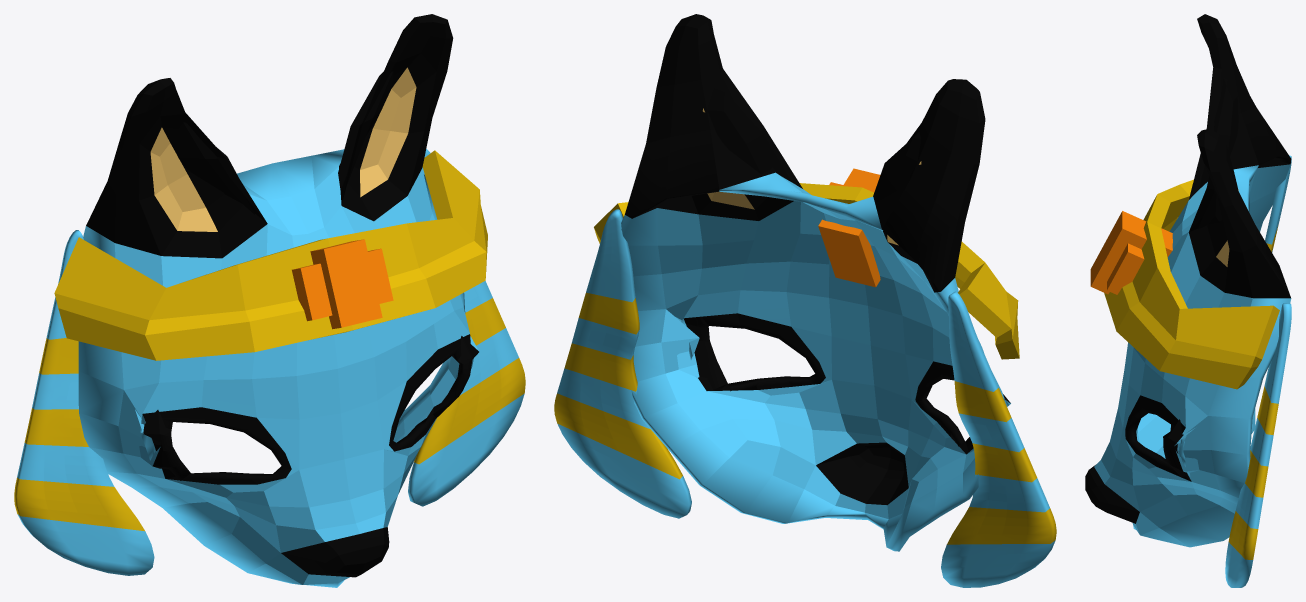
The model's file is EgypcianMask.fbx.
3 views of the same model, side by side, from view 1: azimuth 30°, elevation 25°; view 2: azimuth 150°, elevation 25°; view 3: azimuth 270°, elevation 25° (orthographic). The views are drawn at different scales.
Visible parts, largest first — view 1: Plane; view 2: Plane; view 3: Plane.
Part boxes in pixels (left/top/right/bottom): Plane: left=14, top=14, right=525, bottom=587; Plane: left=554, top=14, right=1056, bottom=587; Plane: left=1085, top=14, right=1291, bottom=587.
Size of the model in its own units: 199 by 191 by 78.75.
